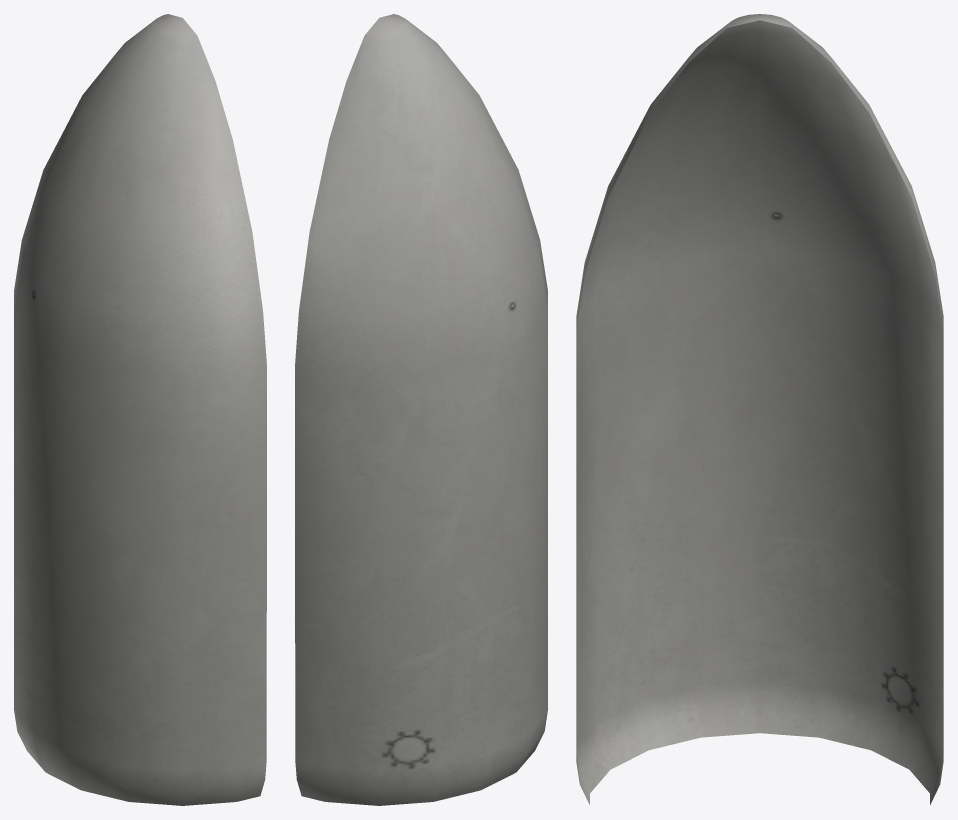
Rendered from cap-half.glb.
The picture shows the model from 3 angles, left to right: view 1: azimuth 30°, elevation 25°; view 2: azimuth 150°, elevation 25°; view 3: azimuth 270°, elevation 25°; orthographic projection. The views are drawn at different scales.
Parts seen in each view (by area): view 1: Object_2.001; view 2: Object_2.001; view 3: Object_2.001.
Part boxes in pixels (x1,y1,x2,y2): Object_2.001: (14, 14, 266, 805); Object_2.001: (295, 14, 547, 805); Object_2.001: (576, 14, 943, 804).
Size of the model in its own units: 5.1 by 23.71 by 10.05.
1 material, 1 textured.
